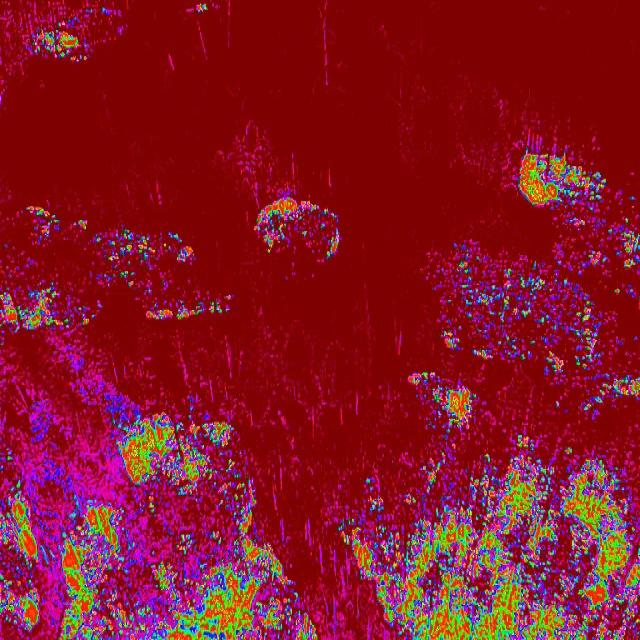fire: (334, 426, 640, 640), (0, 335, 133, 640), (423, 253, 640, 427), (0, 207, 234, 333), (133, 410, 255, 640), (511, 149, 640, 213), (0, 0, 128, 64), (256, 192, 348, 266), (553, 212, 640, 252), (255, 542, 287, 640), (288, 579, 318, 640)
